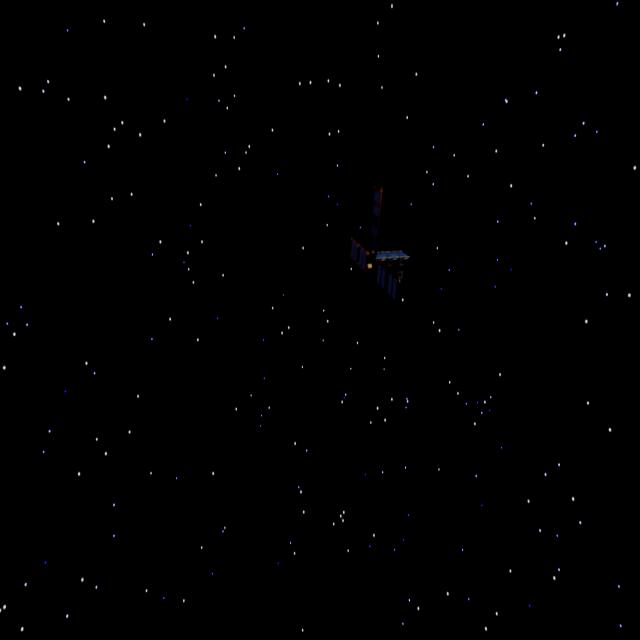satellite: (334, 180, 424, 304)
